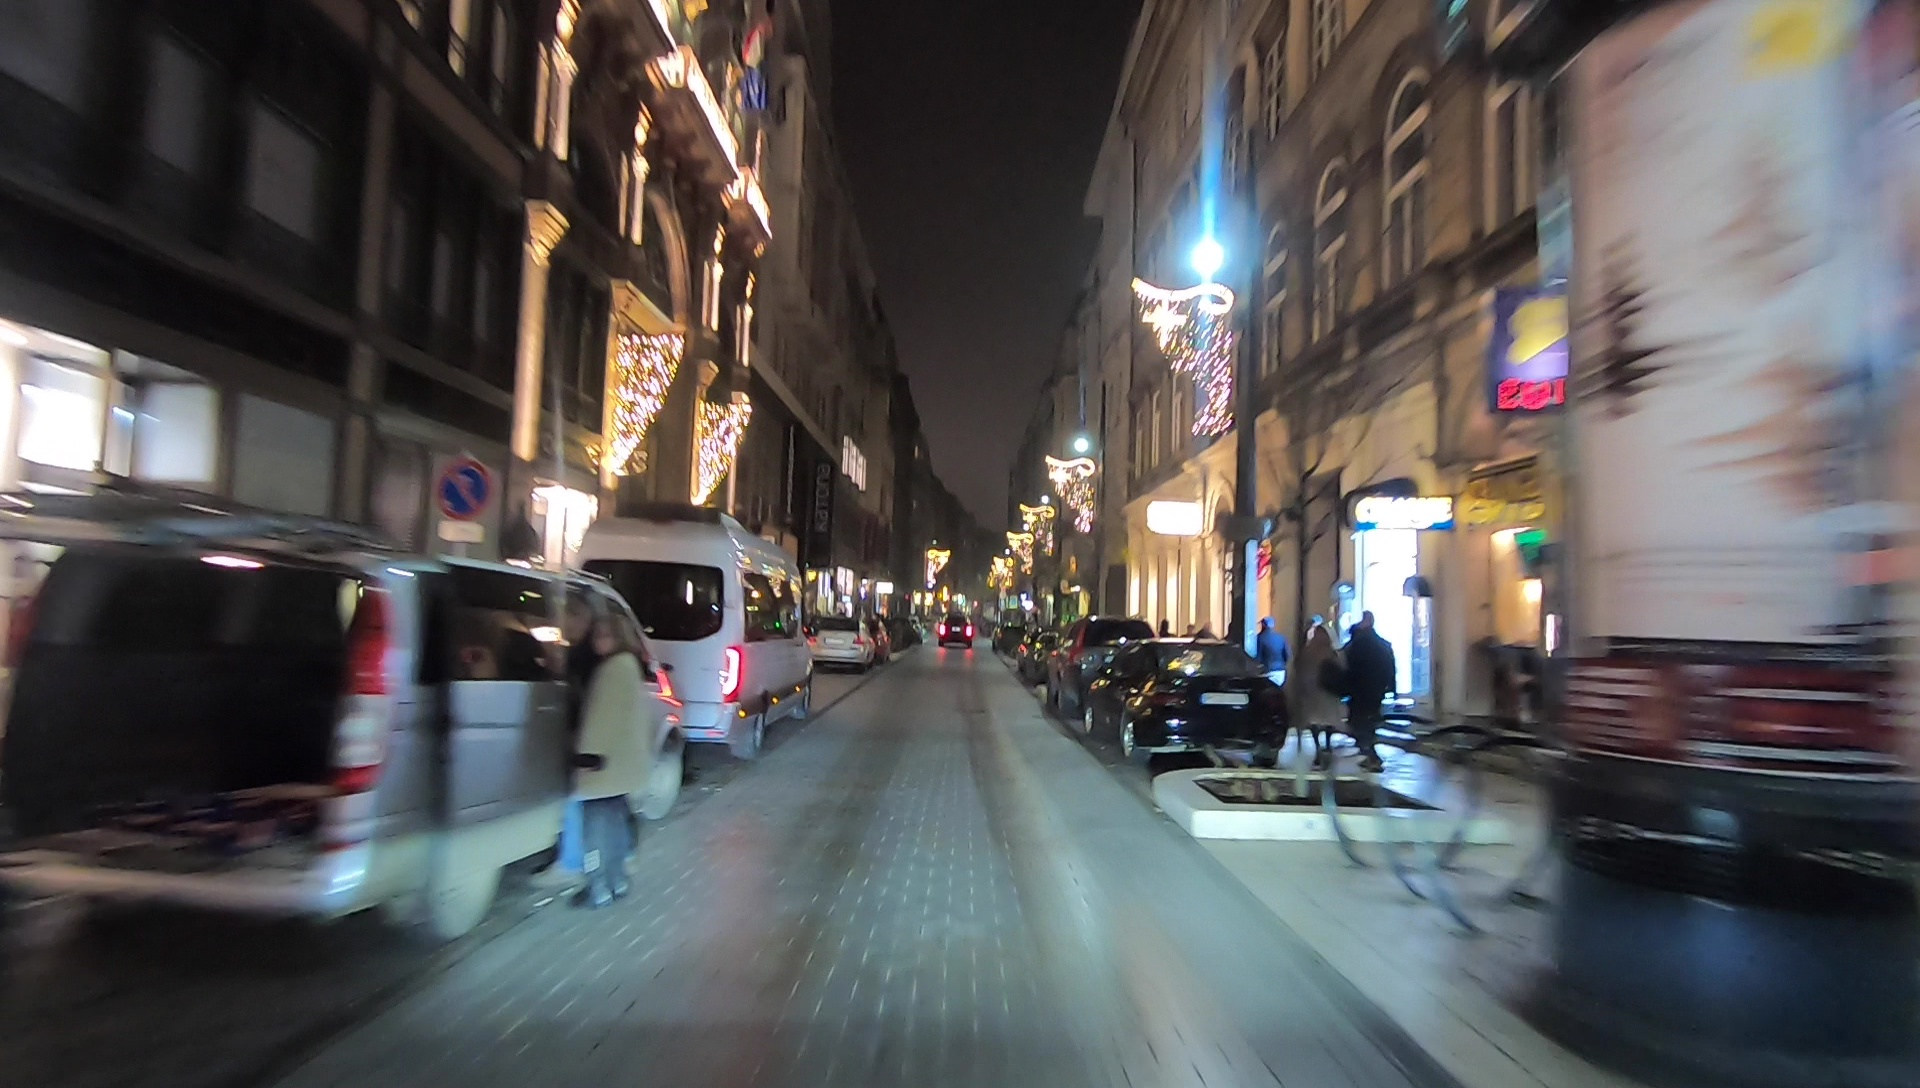person: (564, 615, 645, 917), (1346, 616, 1395, 775), (1299, 623, 1342, 775), (1256, 618, 1286, 711)
